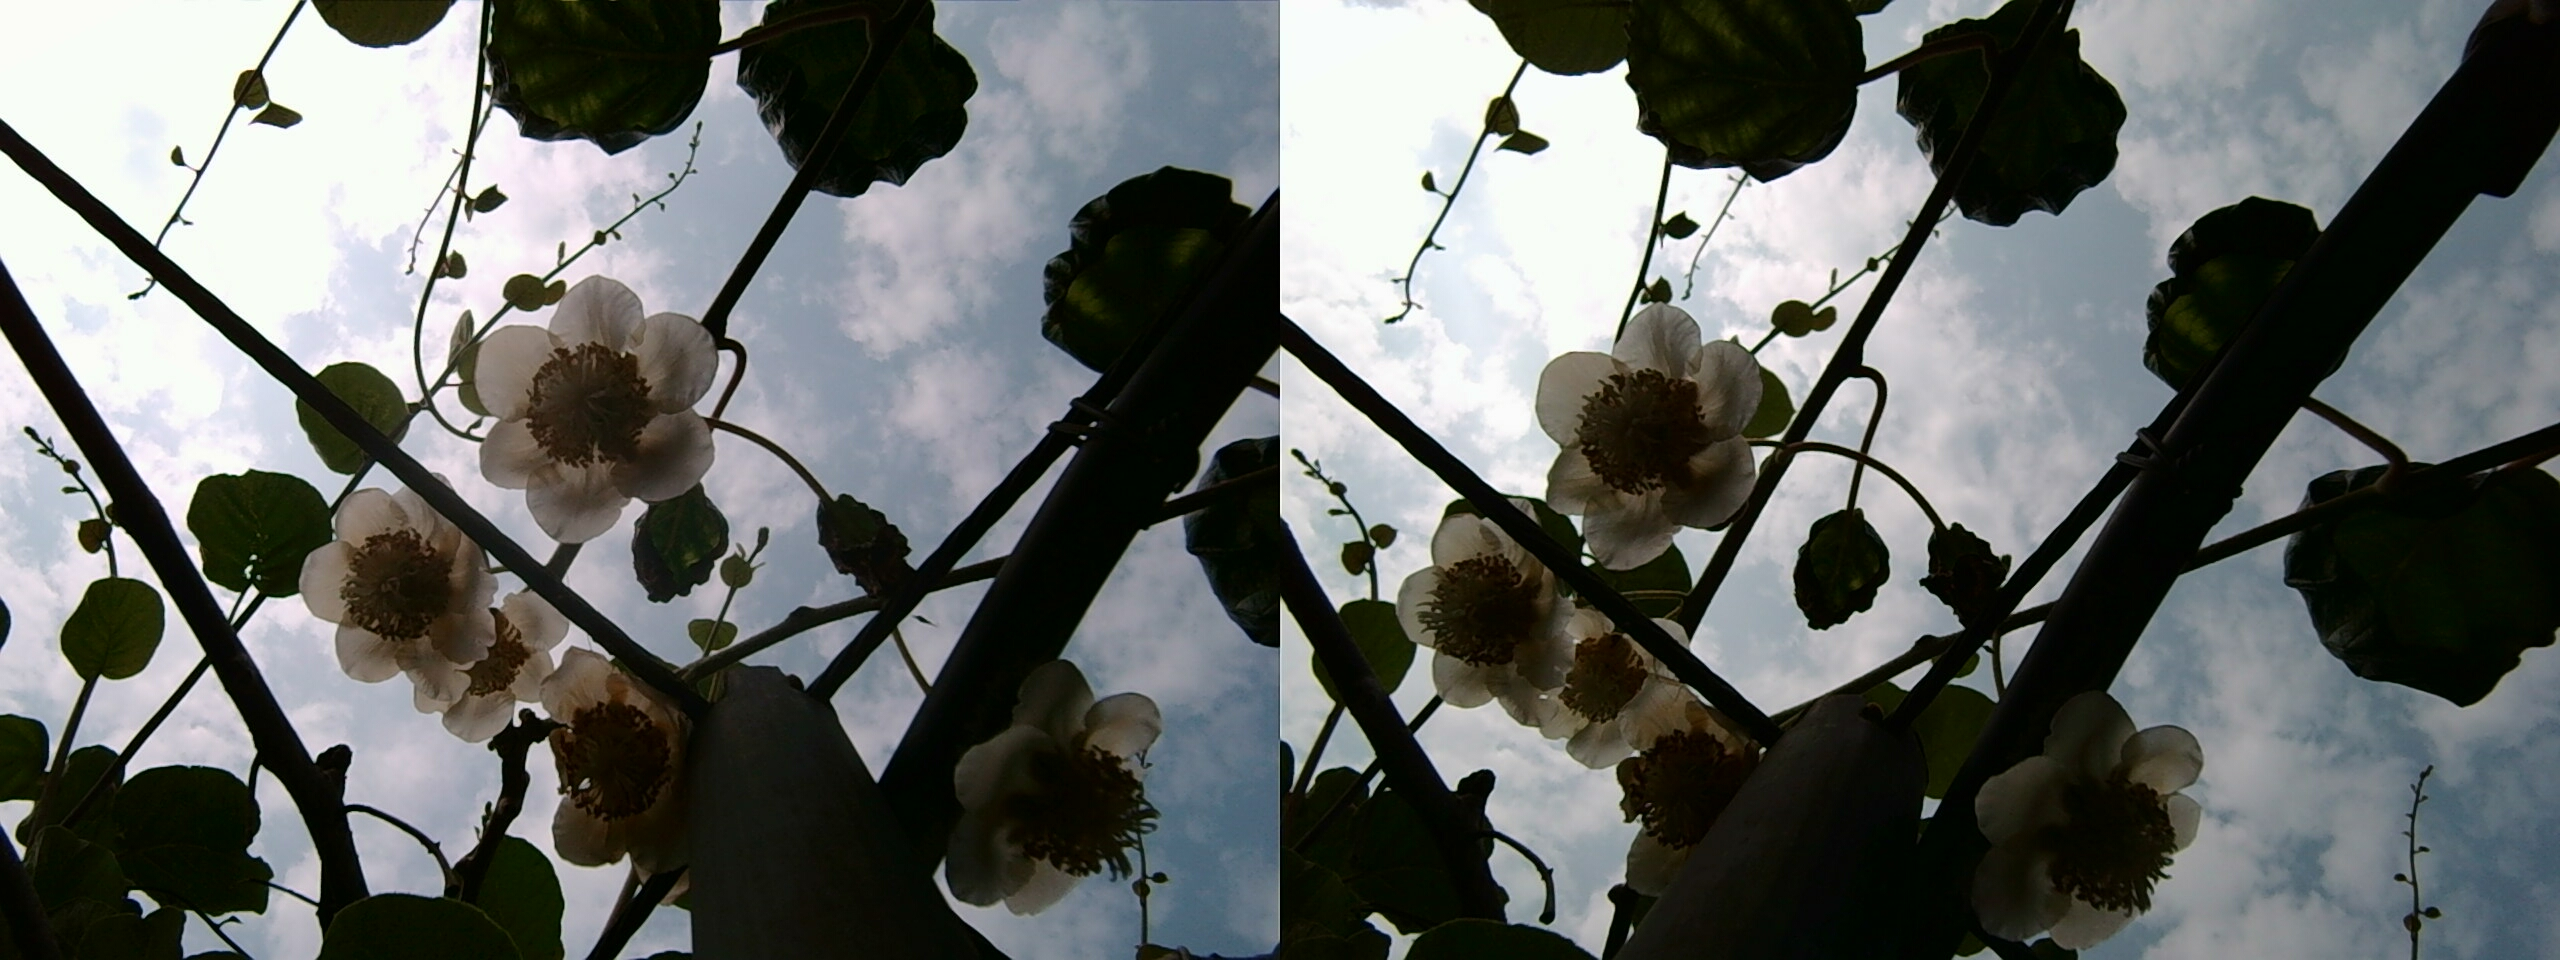flower: (442, 273, 731, 544), (1954, 687, 2212, 945), (1522, 305, 1770, 563), (931, 663, 1177, 922), (1389, 503, 1634, 723), (287, 473, 514, 700), (1554, 664, 1771, 878), (513, 642, 704, 859), (421, 598, 558, 718)
